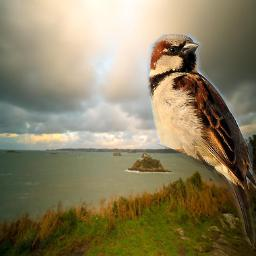Swallow: (146, 34, 256, 246)
